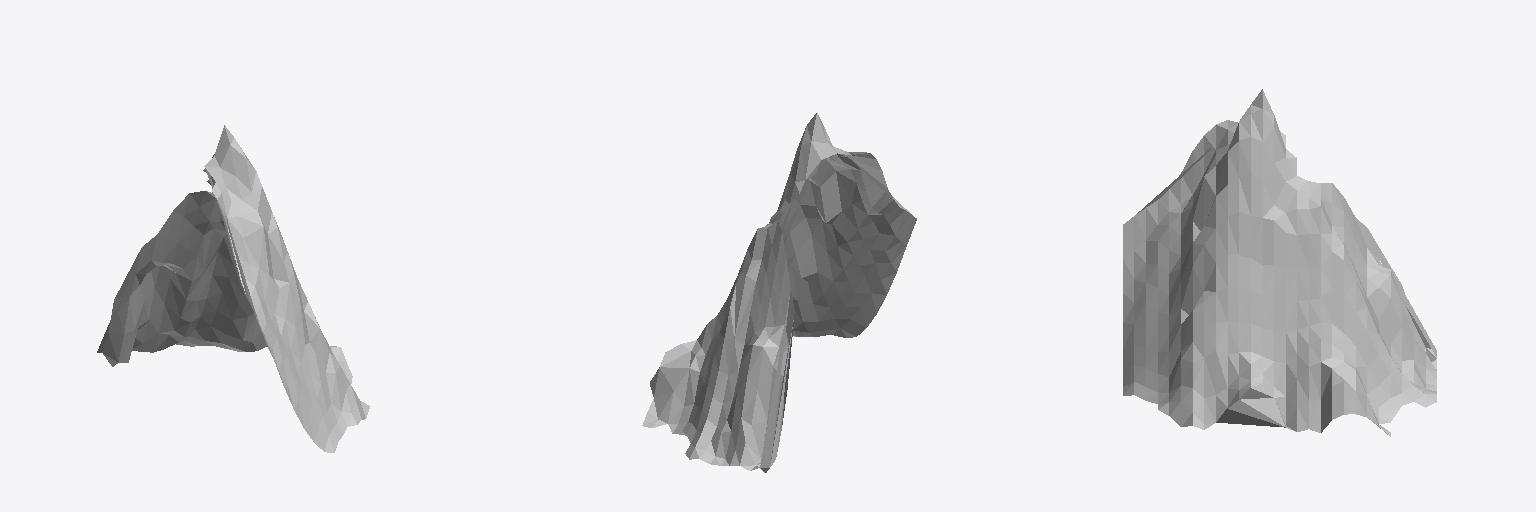
The model's file is tree_63.obj.
The picture shows the model from 3 angles: view 1: azimuth 30°, elevation 25°; view 2: azimuth 150°, elevation 25°; view 3: azimuth 270°, elevation 25°; orthographic projection.
Parts seen in each view (by area): view 1: tree_63.001; view 2: tree_63.001; view 3: tree_63.001.
Part boxes in pixels (left/top/right/bottom): tree_63.001: left=97, top=125, right=369, bottom=452; tree_63.001: left=642, top=113, right=916, bottom=472; tree_63.001: left=1123, top=89, right=1436, bottom=436.
Size of the model in its own units: 16 by 27.9 by 27.